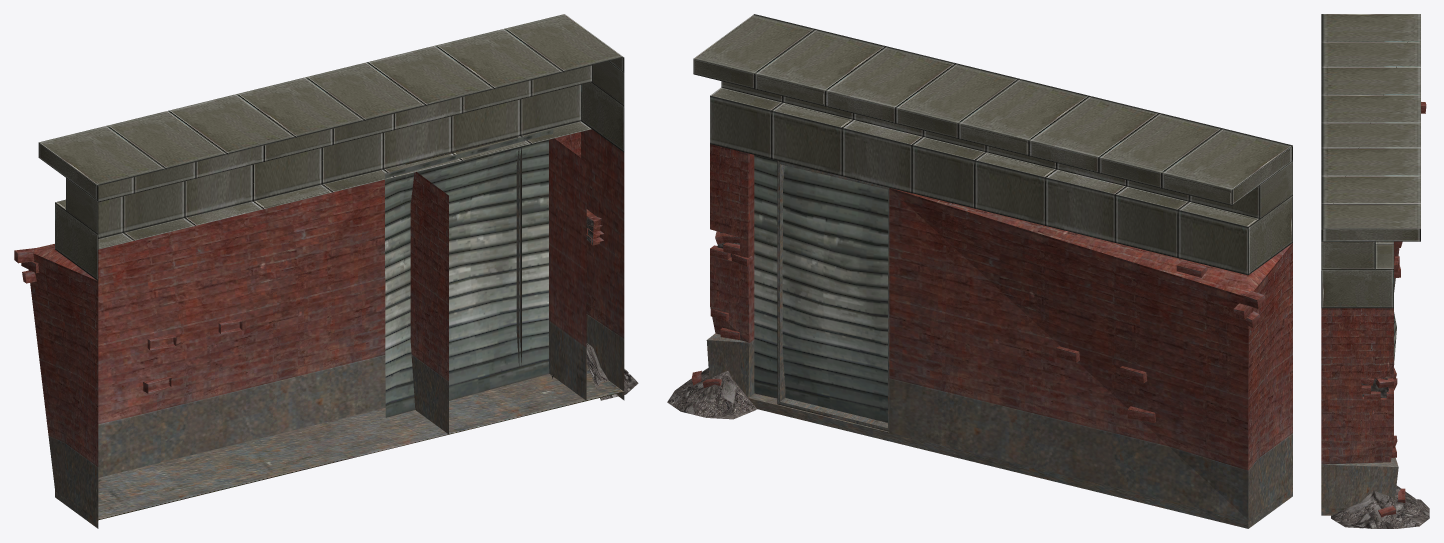
File: Store_front_32.fbx
3 renders of one model, left to right at view 1: azimuth 30°, elevation 25°; view 2: azimuth 150°, elevation 25°; view 3: azimuth 270°, elevation 25°, orthographic. The views are drawn at different scales.
Parts seen in each view (by area): view 1: Store_front_32; view 2: Store_front_32; view 3: Store_front_32.
Part boxes in pixels (x1=…): Store_front_32: x1=14, y1=14, x2=638, y2=528; Store_front_32: x1=667, y1=14, x2=1292, y2=528; Store_front_32: x1=1321, y1=14, x2=1429, y2=528.
Bounding box in the file's own units: 779 × 436 × 149.
